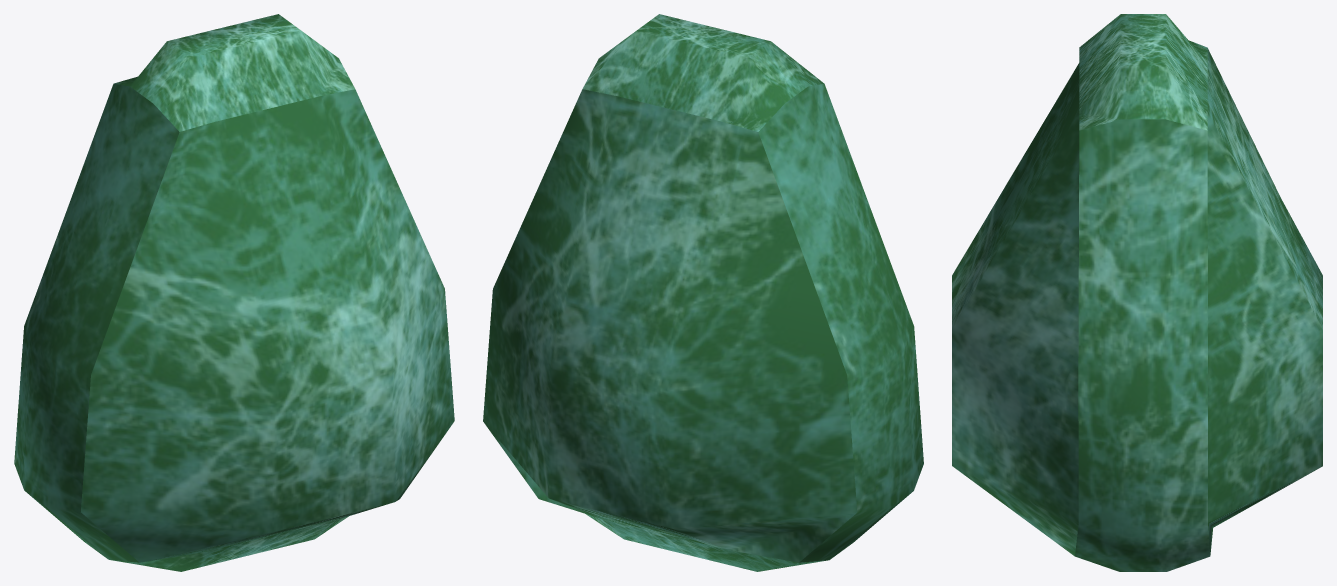
The model's file is PickupGem.fbx.
3 views of the same model, side by side, from view 1: azimuth 30°, elevation 25°; view 2: azimuth 150°, elevation 25°; view 3: azimuth 270°, elevation 25° (orthographic). The views are drawn at different scales.
Visible parts, largest first — view 1: Gem; view 2: Gem; view 3: Gem.
Boxes of the visible parts, x1=… form: Gem: x1=14, y1=14, x2=454, y2=571; Gem: x1=483, y1=14, x2=923, y2=571; Gem: x1=952, y1=14, x2=1322, y2=571.
Bounding box in the file's own units: 52.38 × 64.23 × 43.7.
1 material, 1 textured.
